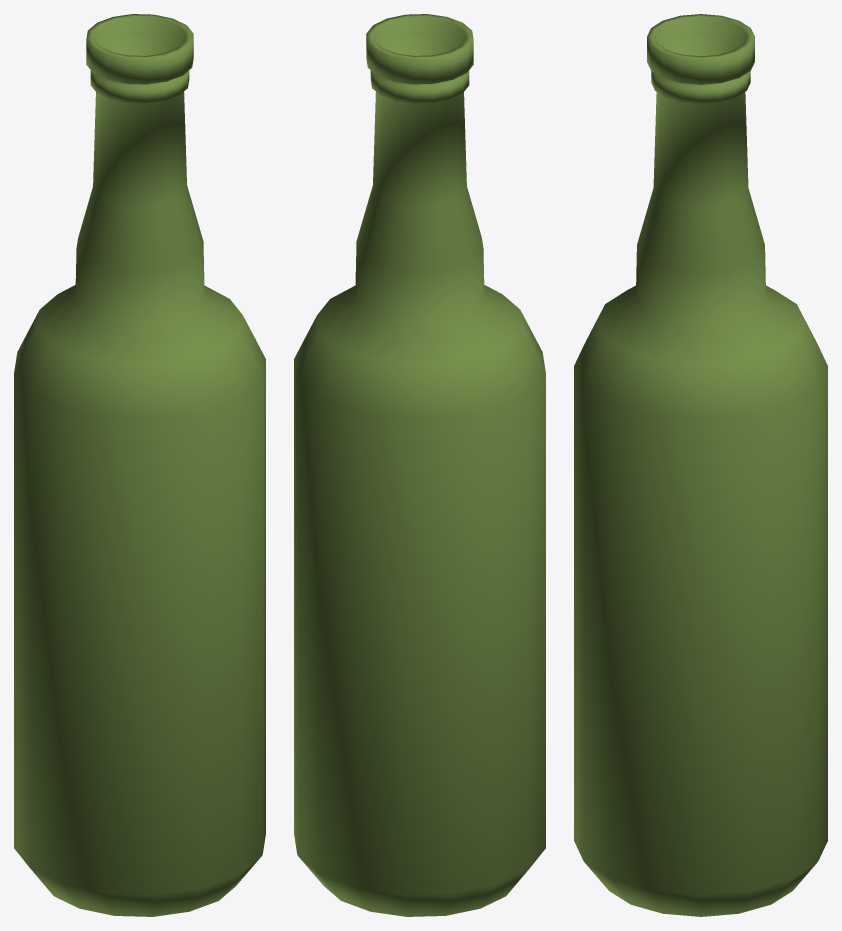
The model's file is JuiceBottle.fbx.
3 renders of one model, left to right at view 1: azimuth 30°, elevation 25°; view 2: azimuth 150°, elevation 25°; view 3: azimuth 270°, elevation 25°, orthographic.
Visible parts, largest first — view 1: Plane; view 2: Plane; view 3: Plane.
Boxes of the visible parts, <box> form: Plane: <box>14,14,265,916</box>; Plane: <box>294,14,545,916</box>; Plane: <box>574,14,827,916</box>.
Bounding box in the file's own units: 11.85 × 43.18 × 11.85.
